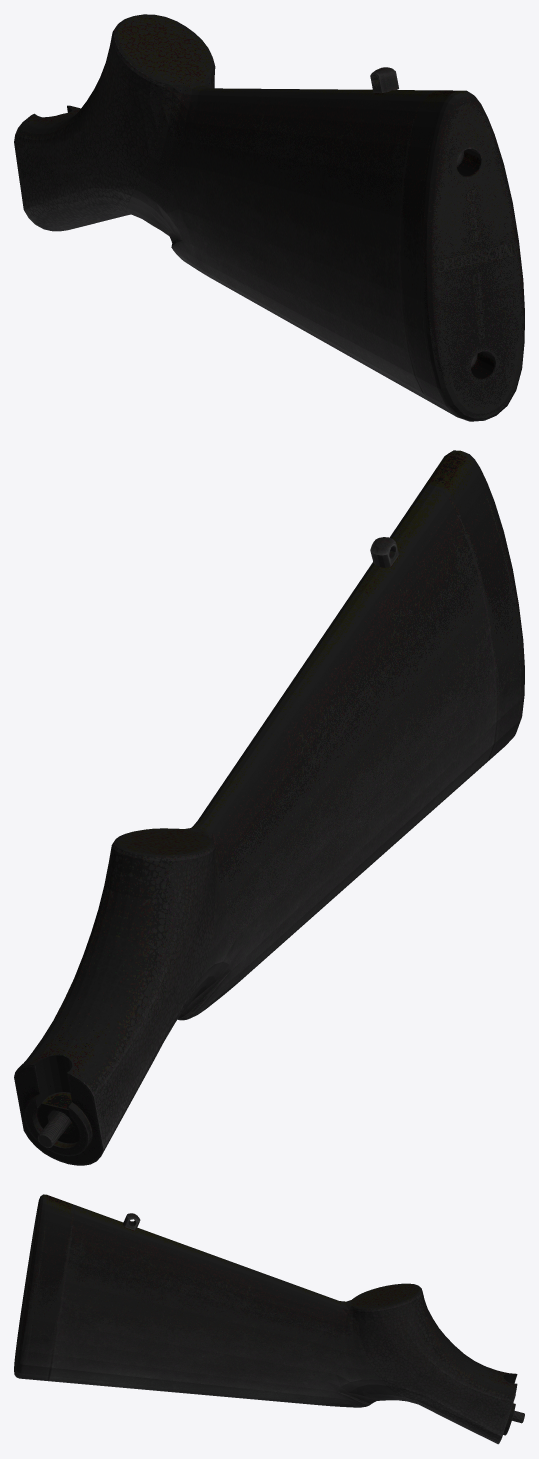
3 views of the same model, one above another, from view 1: azimuth 30°, elevation 25°; view 2: azimuth 150°, elevation 25°; view 3: azimuth 270°, elevation 25° (orthographic). The views are drawn at different scales.
Visible parts, largest first — view 1: TW_5e87116b81c4ed43e83cefdd_PZ_Import; view 2: TW_5e87116b81c4ed43e83cefdd_PZ_Import; view 3: TW_5e87116b81c4ed43e83cefdd_PZ_Import.
Part boxes in pixels (x1,y1,x2,y2): TW_5e87116b81c4ed43e83cefdd_PZ_Import: (14, 14, 524, 421); TW_5e87116b81c4ed43e83cefdd_PZ_Import: (14, 450, 524, 1165); TW_5e87116b81c4ed43e83cefdd_PZ_Import: (14, 1194, 524, 1444).
Size of the model in its own units: 0.0244 by 0.1908 by 0.1012.
Materials: 1 (1 with a texture image).
